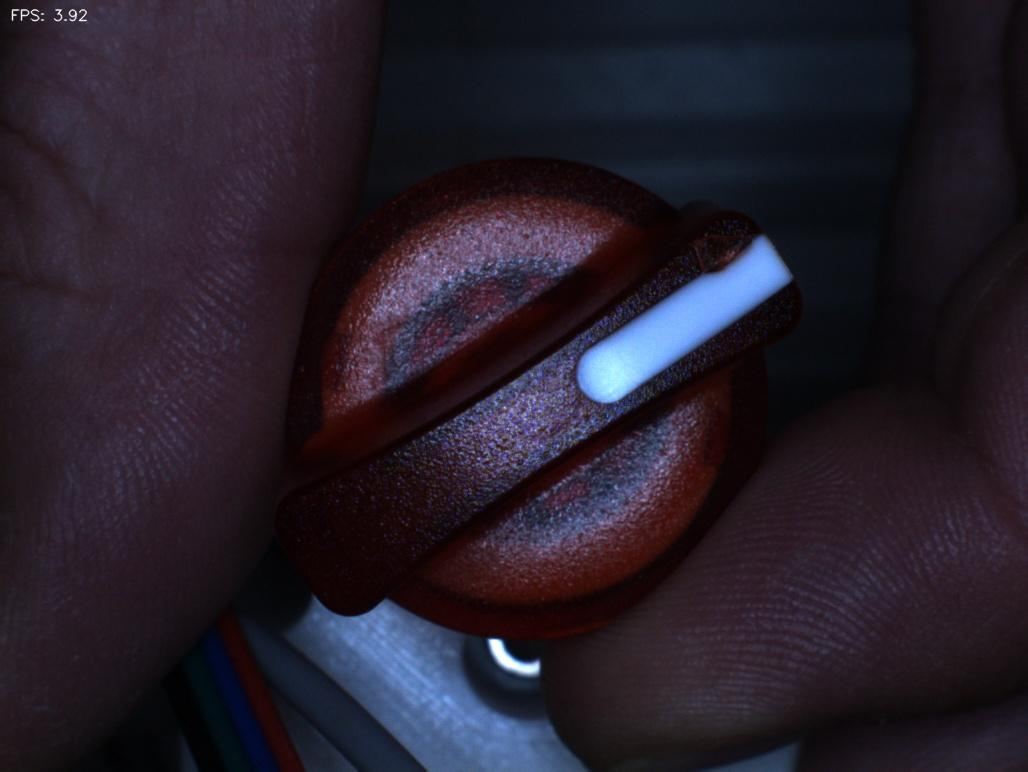Choc: (677, 198, 772, 288)
